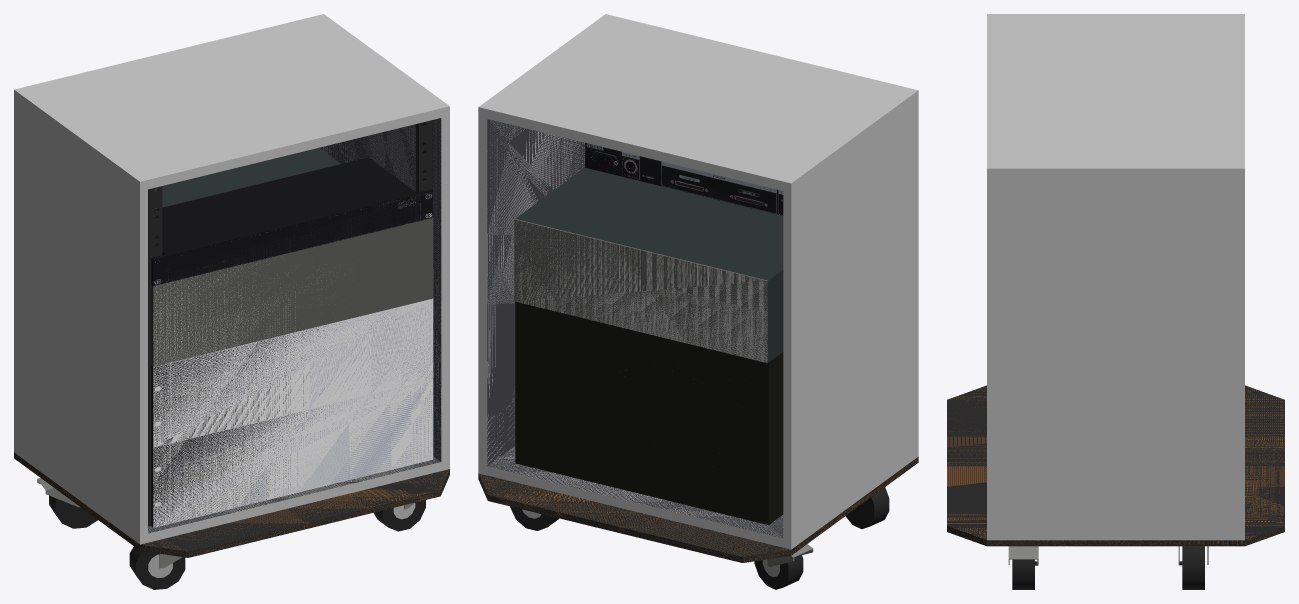
Rendered from Audio Power Rack.dae.
The picture shows the model from 3 angles, left to right: view 1: azimuth 30°, elevation 25°; view 2: azimuth 150°, elevation 25°; view 3: azimuth 270°, elevation 25°; orthographic projection. The views are drawn at different scales.
Visible parts, largest first — view 1: ATA_Rack_Case_-_12_Space (×4), Yamaha_PW800 (×2), Furman_P2400_IT (×2), Yamaha_DCU5D, image_0 (×2), fan_effects_large_1, image_2, Component_59 (×2), image_4, Group_15 (×3); view 2: ATA_Rack_Case_-_12_Space (×4), Yamaha_PW800 (×2), Furman_P2400_IT (×2), image_5, fan_effects_large_1, image_3, Group_15 (×2), Yamaha_DCU5D; view 3: ATA_Rack_Case_-_12_Space (×2), fan_effects_large_1, Group_15 (×2).
Boxes of the visible parts, bbox=[...] form: ATA_Rack_Case_-_12_Space (×4): bbox=[14, 14, 449, 544]; Yamaha_PW800 (×2): bbox=[153, 298, 433, 527]; Furman_P2400_IT (×2): bbox=[151, 148, 433, 366]; Yamaha_DCU5D: bbox=[151, 157, 433, 285]; image_0 (×2): bbox=[153, 324, 328, 527]; fan_effects_large_1: bbox=[14, 452, 449, 557]; image_2: bbox=[153, 192, 433, 285]; Component_59 (×2): bbox=[148, 120, 432, 526]; image_4: bbox=[153, 254, 326, 365]; Group_15 (×3): bbox=[49, 495, 425, 589]; ATA_Rack_Case_-_12_Space (×4): bbox=[478, 14, 918, 549]; Yamaha_PW800 (×2): bbox=[515, 301, 783, 524]; Furman_P2400_IT (×2): bbox=[514, 167, 783, 362]; image_5: bbox=[514, 218, 767, 362]; fan_effects_large_1: bbox=[478, 456, 918, 562]; image_3: bbox=[585, 143, 783, 215]; Group_15 (×2): bbox=[754, 487, 889, 589]; Yamaha_DCU5D: bbox=[585, 143, 782, 202]; ATA_Rack_Case_-_12_Space (×2): bbox=[987, 14, 1244, 540]; fan_effects_large_1: bbox=[947, 385, 1284, 546]; Group_15 (×2): bbox=[1012, 546, 1204, 589].
Bounding box in the file's own units: 20.91 × 19.29 × 27.39.
